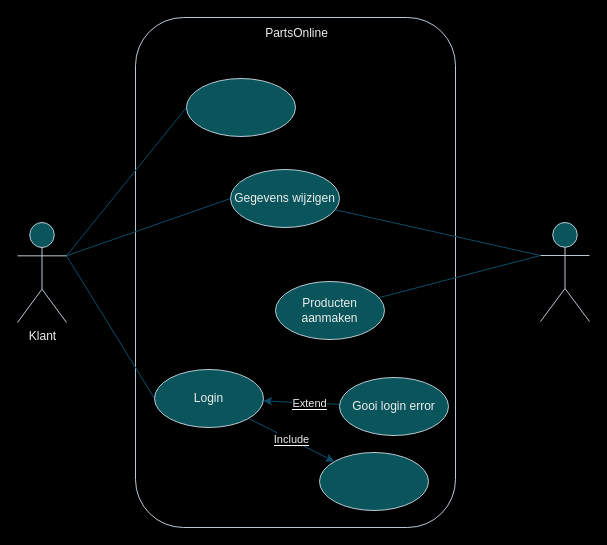
This 607x545 diagram has some shape labels left out. The centre of each missing label's shape, as x and y in pixels:
"Check gegevens" goes at pixel 373 481.
"Website" goes at pixel 565 272.
"Zoek product" goes at pixel 241 107.
